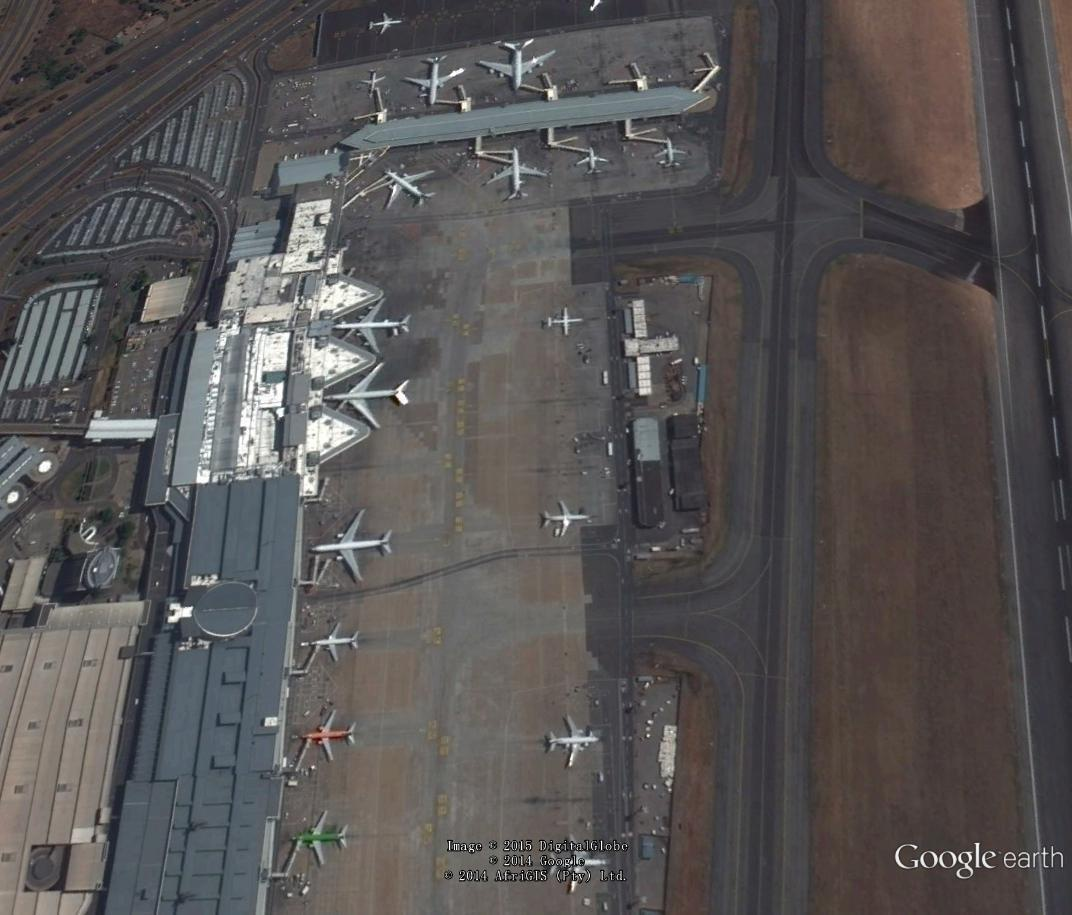aircraft: (320, 358, 417, 438), (307, 506, 398, 586), (329, 293, 417, 356), (476, 38, 558, 96), (479, 145, 553, 205), (288, 804, 354, 868), (403, 51, 468, 111), (544, 708, 601, 774), (297, 706, 361, 762), (300, 616, 362, 667), (378, 166, 441, 211), (536, 496, 592, 540), (541, 301, 587, 341), (570, 142, 616, 181), (650, 133, 692, 173), (364, 3, 404, 40), (357, 65, 389, 97)
